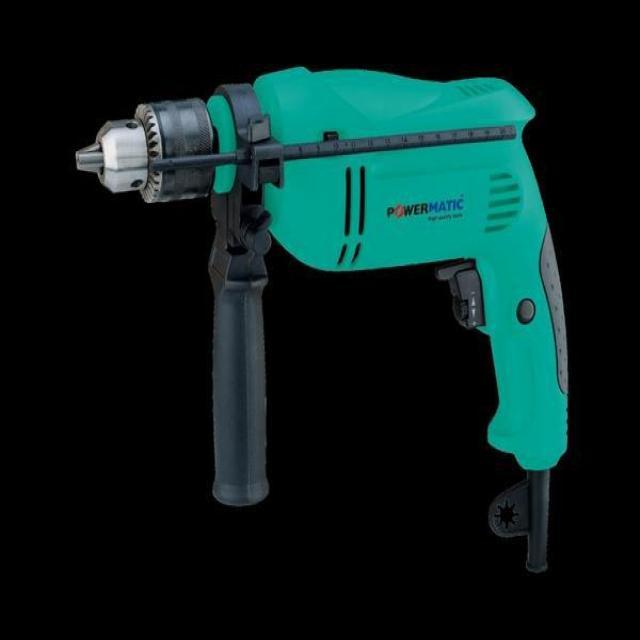drill: (75, 69, 569, 574)
